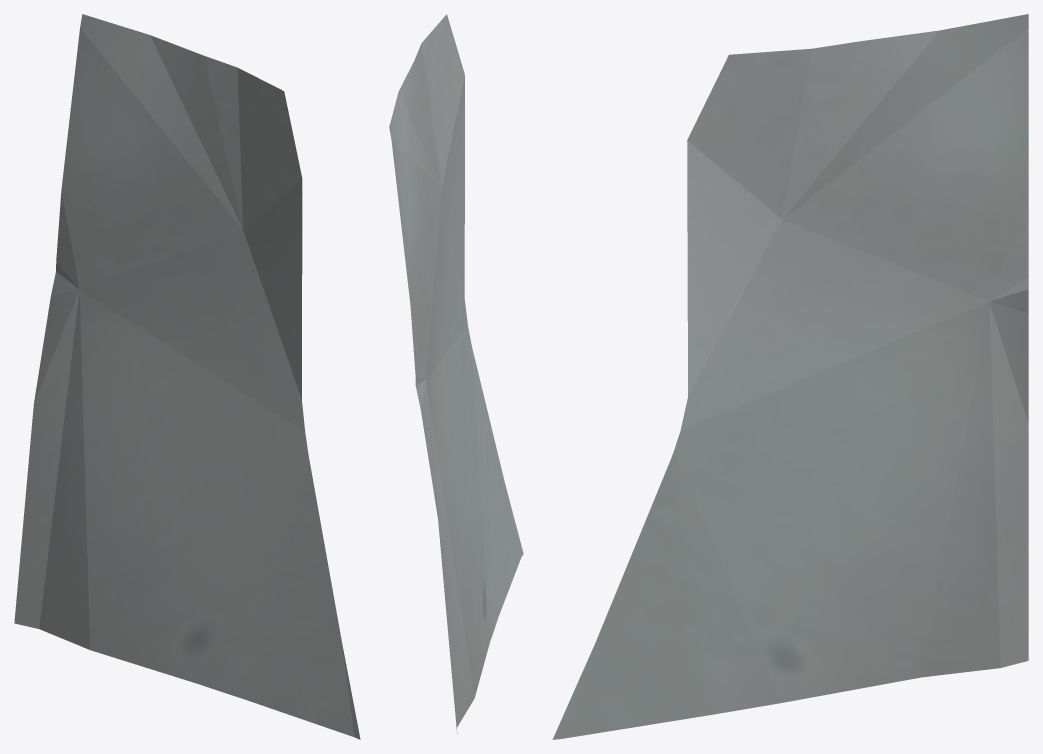
3 views of the same model, side by side, from view 1: azimuth 30°, elevation 25°; view 2: azimuth 150°, elevation 25°; view 3: azimuth 270°, elevation 25° (orthographic). The views are drawn at different scales.
Size of the model in its own units: 0.2074 by 0.8374 by 0.5273.
Materials: 2 (2 with a texture image).
